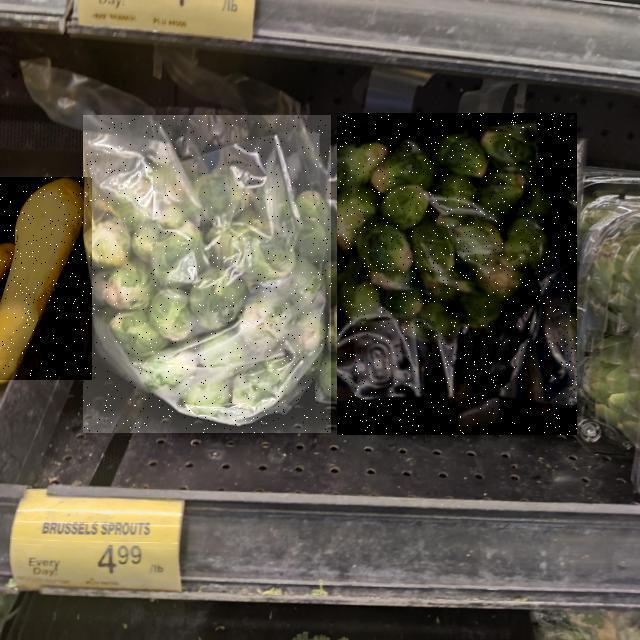Brussel Sprouts: (84, 115, 334, 433), (337, 113, 577, 435)
Squash: (0, 177, 92, 380)
